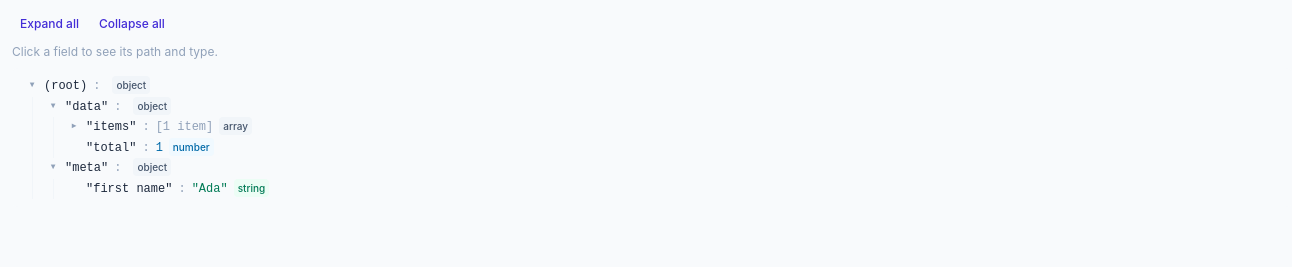
Scenario: JsonTreeView › AN-07: quotes keys that are not identifiers
Click the button "\"first name\" : \"Ada\" string": (129, 188) [86, 178, 1280, 199]
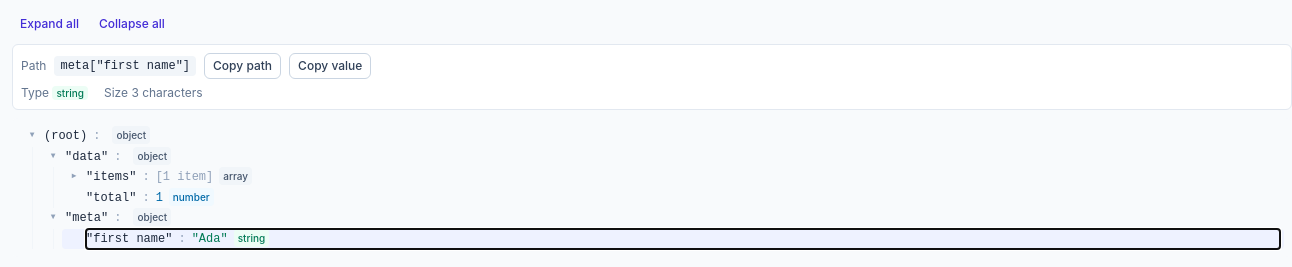
Now the text "meta[\"first name\"]" is shown, box [54, 56, 196, 76]
